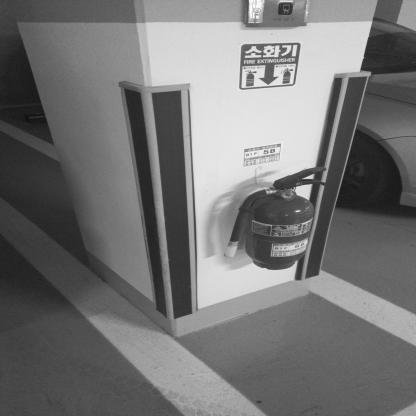FE: (225, 165, 327, 269)
